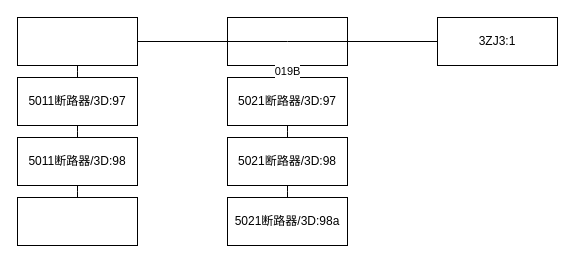
Some shapes in this 575 by 263 pixel diagram are drawn without their labels. The centre of each missing label's shape, as x and y in pixels:
"5011断路器/3D:96" goes at (77,41).
"5011断路器/3D:98a" goes at (77,221).
"5021断路器/3D:96" goes at (287,41).
